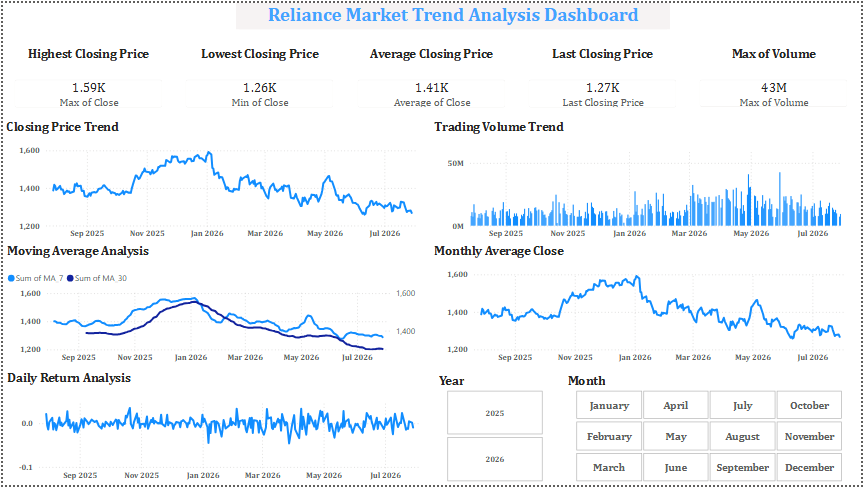

The page's visual inventory and layout, read from the dashboard file:
{"tool":"powerbi","page":{"name":"Page 1","canvas":[1280,720],"ordinal":0},"visuals":[{"type":"cardVisual","title":"Highest Closing Price","fields":{"Data":["Max(row_data.Close)"]},"box":[0,64.3,255,109],"z":0},{"type":"cardVisual","title":"Lowest Closing Price","fields":{"Data":["Min(row_data.Close)"]},"box":[255.7,64.3,255,109],"z":1000},{"type":"cardVisual","title":"Average Closing Price","fields":{"Data":["Avg(row_data.Close)"]},"box":[511.4,64.3,255,109],"z":2000},{"type":"cardVisual","title":"Last Closing Price","fields":{"Data":["row_data.Last Closing Price"]},"box":[767.1,64.3,255,109],"z":3000},{"type":"cardVisual","title":"Max of Volume","fields":{"Data":["Max(row_data.Volume)"]},"box":[1022.9,64.3,255,108.6],"z":4000},{"type":"lineChart","title":"Closing Price Trend","fields":{"Category":["row_data.Date"],"Y":["Sum(row_data.Close)"]},"box":[0,172.9,638,187.1],"z":5000},{"type":"clusteredColumnChart","title":"Trading Volume Trend","fields":{"Category":["row_data.Date"],"Y":["Sum(row_data.Volume)"]},"box":[638.6,172.9,640,187.1],"z":6000},{"type":"lineChart","title":"Moving Average Analysis","fields":{"Category":["row_data.Date"],"Y":["Sum(row_data.MA_7)"],"Y2":["Sum(row_data.MA_30)"]},"box":[1.4,358.6,638,187],"z":7000},{"type":"lineChart","title":"Monthly Average Close","fields":{"Y":["Avg(row_data.Close)"],"Category":["row_data.Date"]},"box":[638.6,358.6,638,187],"z":8000},{"type":"lineChart","title":"Daily Return Analysis","fields":{"Category":["row_data.Date"],"Y":["Sum(row_data.Daily Return)"]},"box":[1.4,547.1,638.6,172.9],"z":9000},{"type":"slicer","fields":{"Values":["row_data.Year"]},"box":[637.9,547.2,191.5,172.8],"z":10000},{"type":"slicer","fields":{"Values":["row_data.Month"]},"box":[829.4,547.2,446.4,172.8],"z":11000},{"type":"textbox","title":"Reliance Market Trend Analysis Dashboard","box":[348.5,0,648,38.9],"z":12000}]}

Visuals, with their boxes in screenshot pixels (x1, y1, x2, y2), scaled from the page's 1280x720 canvas onto the 865x488 screenshot:
"Highest Closing Price" cardVisual: [0,44,172,117]
"Lowest Closing Price" cardVisual: [173,44,345,117]
"Average Closing Price" cardVisual: [346,44,518,117]
"Last Closing Price" cardVisual: [518,44,691,117]
"Max of Volume" cardVisual: [691,44,864,117]
"Closing Price Trend" lineChart: [0,117,431,244]
"Trading Volume Trend" clusteredColumnChart: [432,117,864,244]
"Moving Average Analysis" lineChart: [1,243,432,370]
"Monthly Average Close" lineChart: [432,243,863,370]
"Daily Return Analysis" lineChart: [1,371,432,487]
slicer - row_data.Year: [431,371,560,487]
slicer - row_data.Month: [560,371,862,487]
"Reliance Market Trend Analysis Dashboard" textbox: [236,0,673,26]
